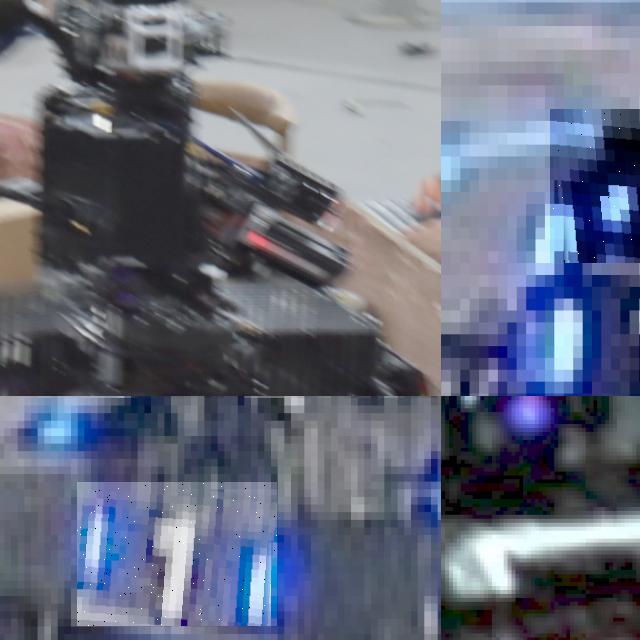B1: (78, 482, 278, 626), (512, 263, 640, 396), (549, 109, 640, 263)
